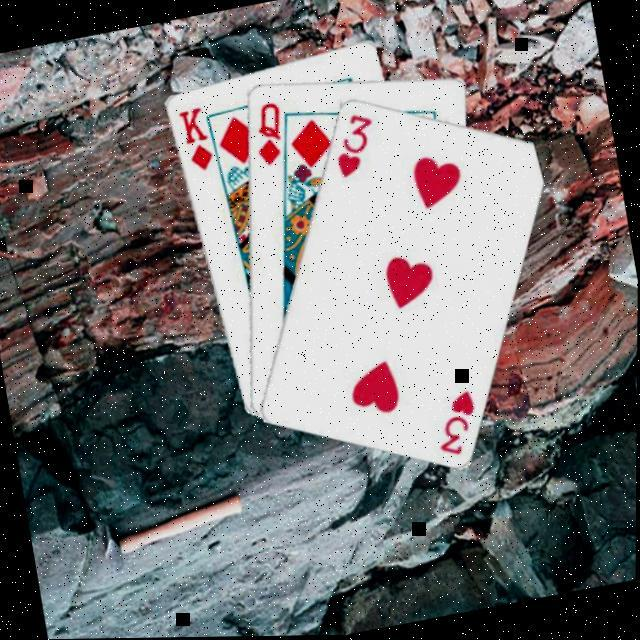3H: (326, 108, 385, 184), (428, 386, 486, 462)
KD: (174, 102, 218, 177)
QD: (246, 98, 292, 172)
